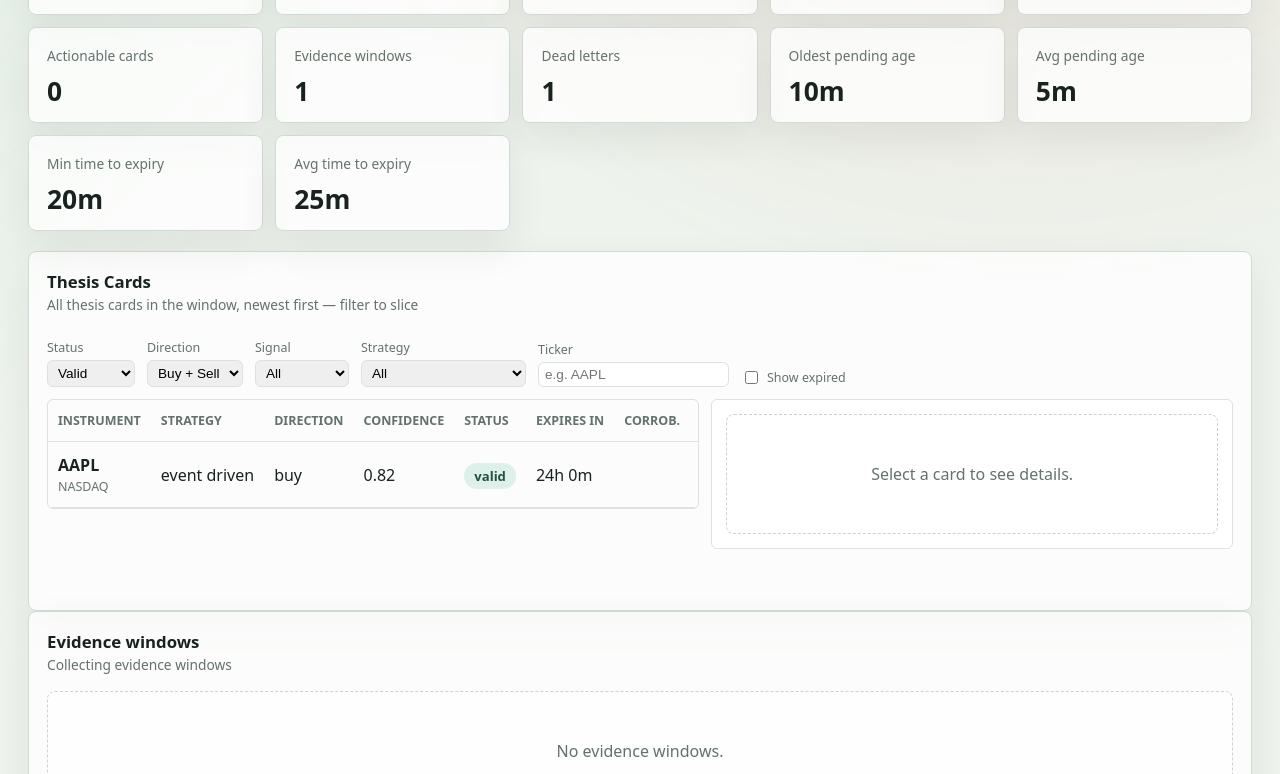
ThesisBuilderTab › filters by ticker search
The width and height of the screenshot is (1280, 774).
(page scrolled)
Expected: the text "AAPL" is shown, [58,454,99,476]
In the field named "Filter by ticker": (634, 375) [538,362,729,387], type "msft"
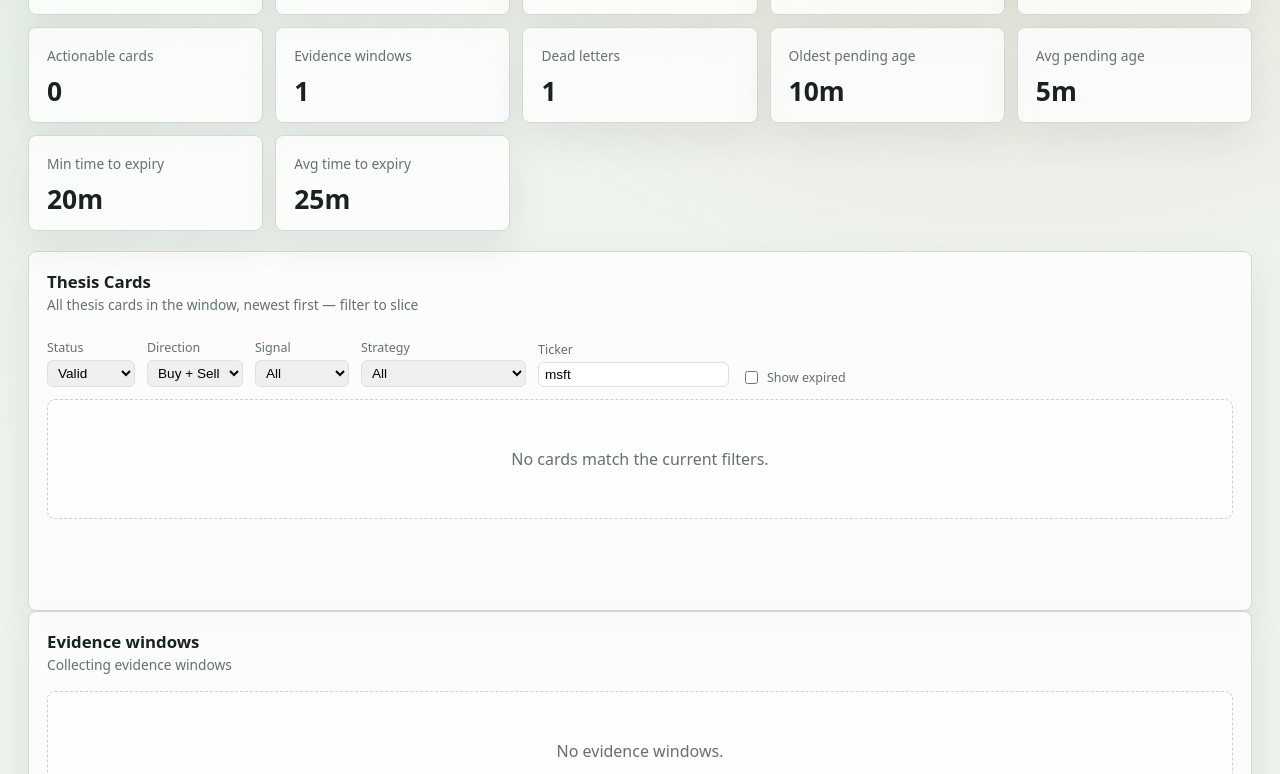
Expected: the text "AAPL" is gone
Expected: the text "No cards match the current filters." is shown, [47,399,1233,519]
